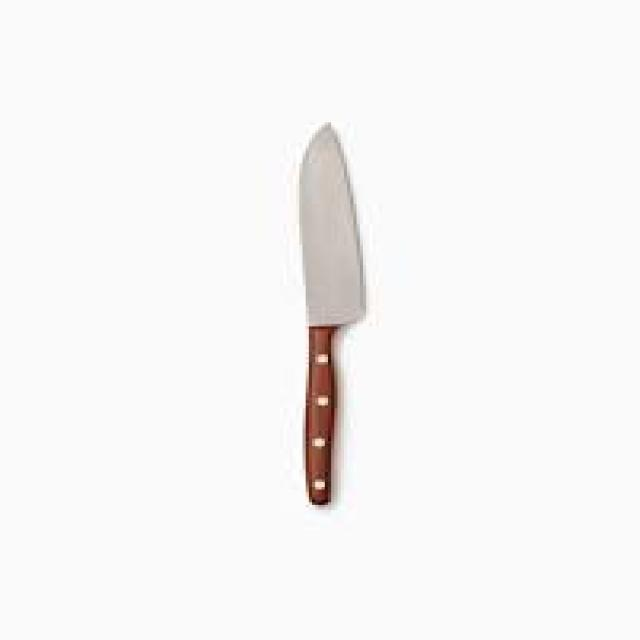Knife: (296, 120, 366, 505)
